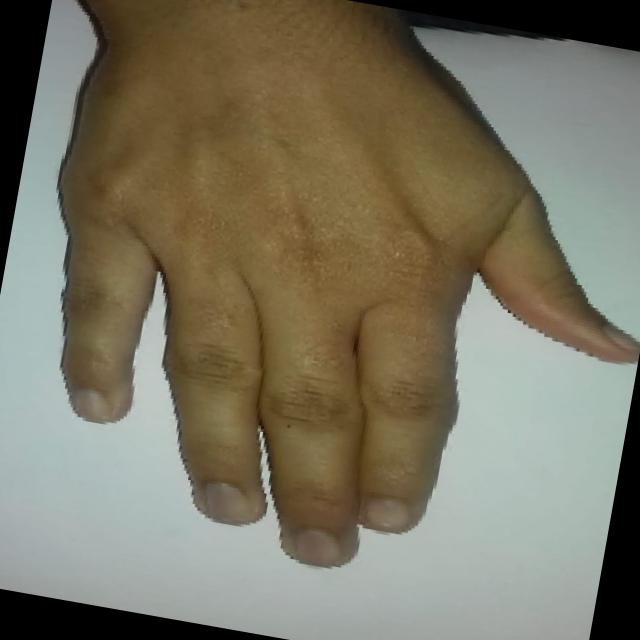Nail: (202, 482, 251, 524), (293, 527, 342, 566), (365, 497, 409, 531), (72, 388, 110, 422), (602, 324, 640, 350)
